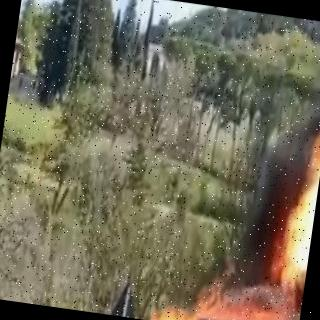smoke: (187, 246, 288, 320)
